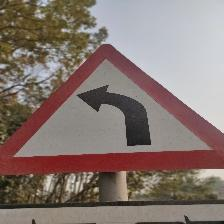Left-Turn: (0, 45, 220, 205)
